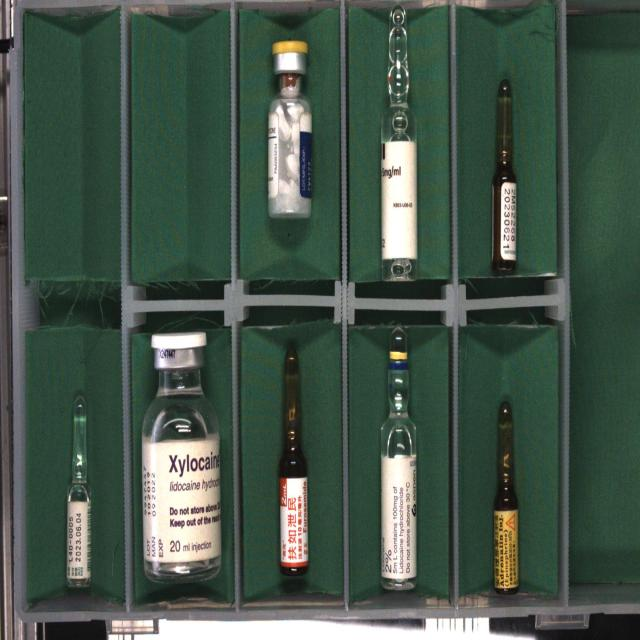Vials: (142, 332, 221, 581), (268, 40, 311, 218)
